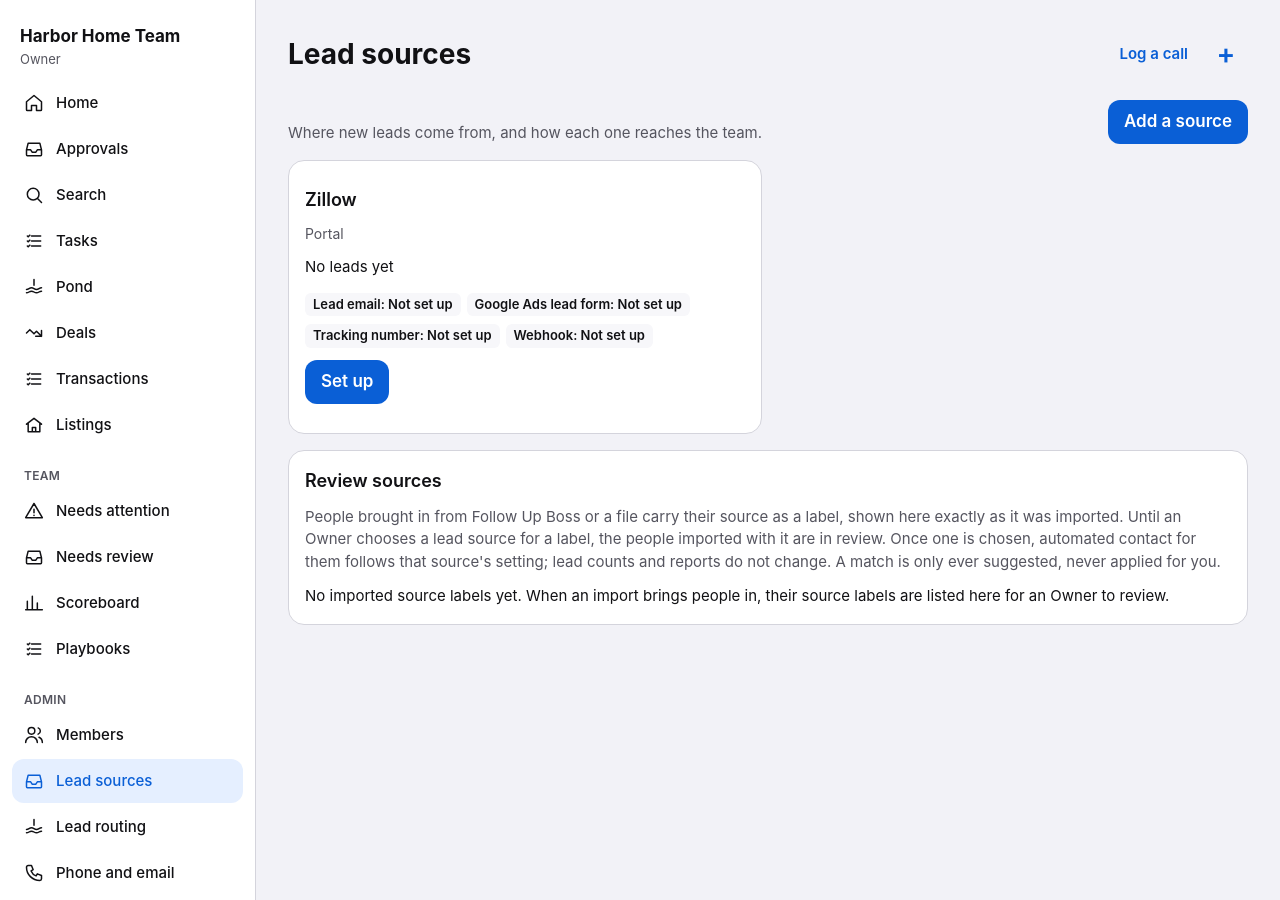
Test: An agent's forwarded email › a failed step is a sentence; trying again goes on from there and never makes the source twice
Click the button "Add a source": (1178, 122) [1108,100,1248,144]
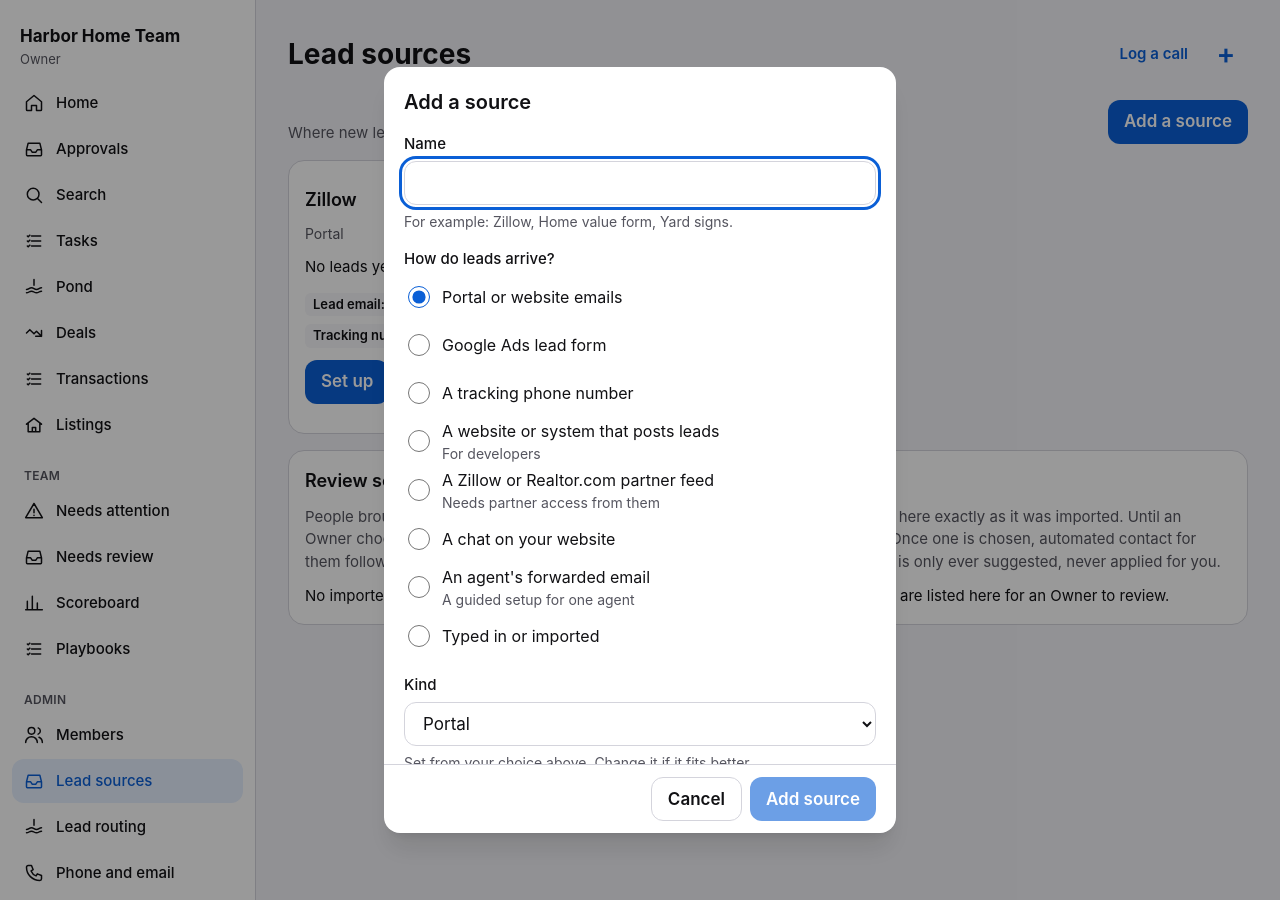
Click the radio button labelled "An agent's forwarded email A guided setup for one agent": (419, 587) [408,576,430,598]
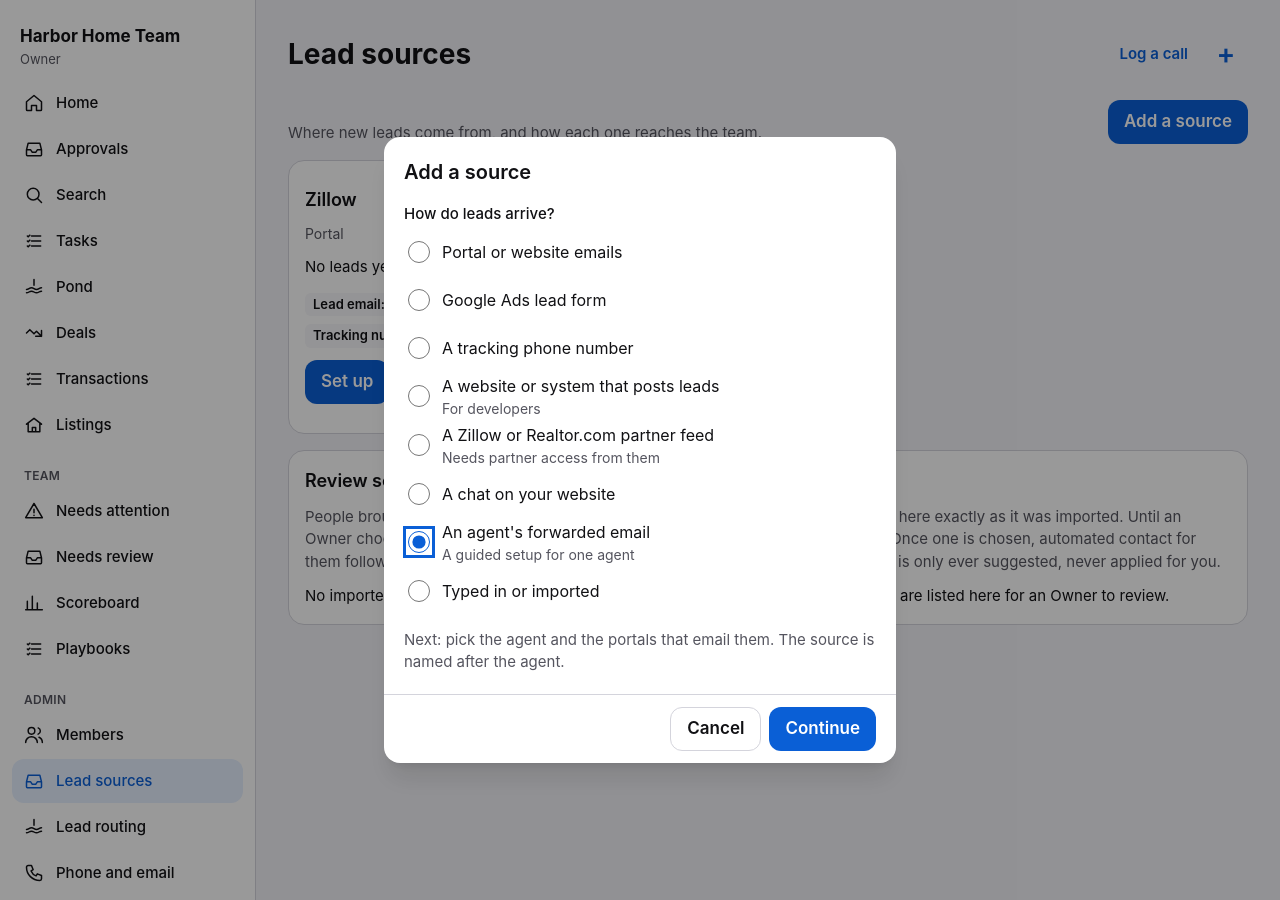
Click the button "Continue": (823, 729) [769,707,876,751]
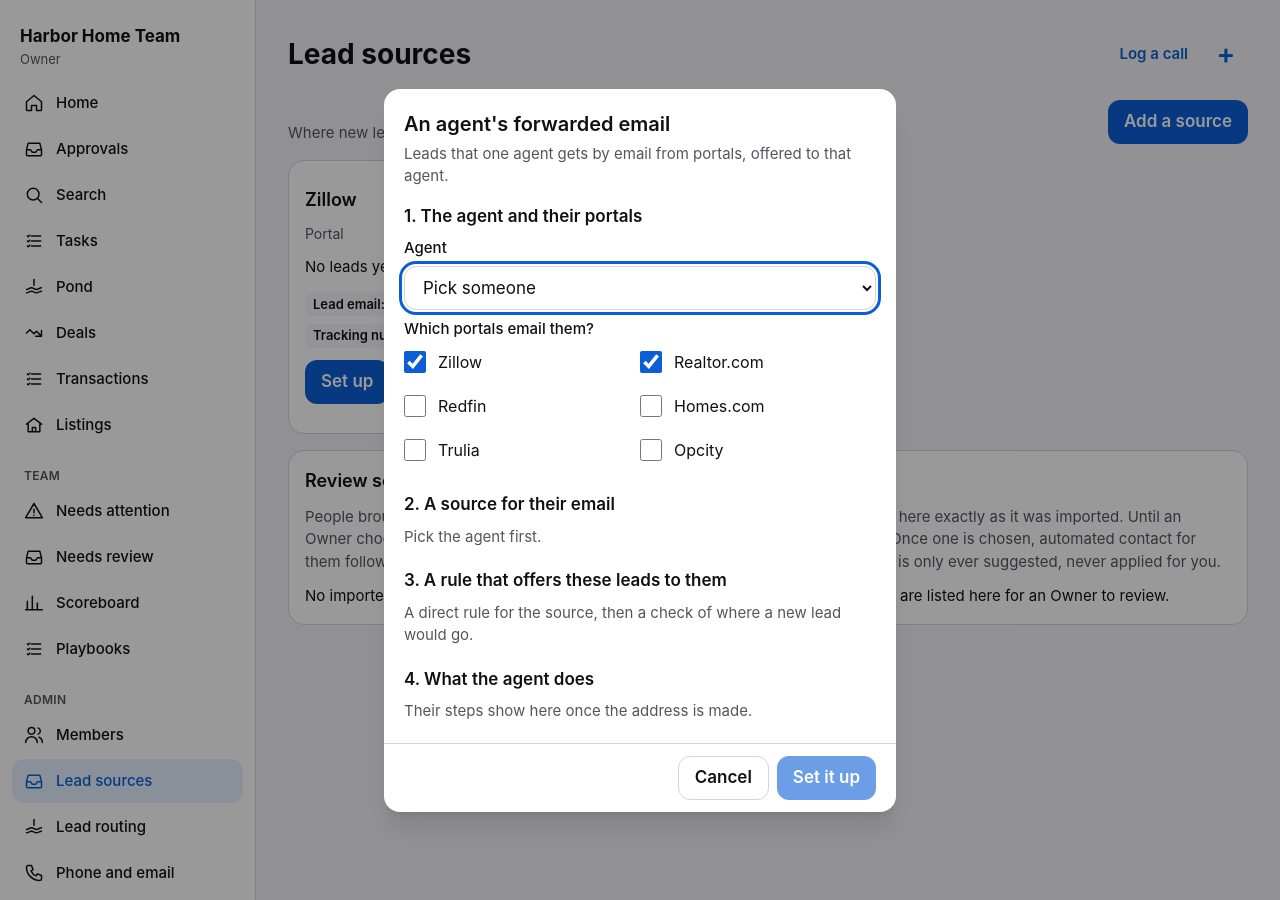
Select "Ava Agent" in the dropdown labelled "Agent": (640, 288) [404,266,876,310]
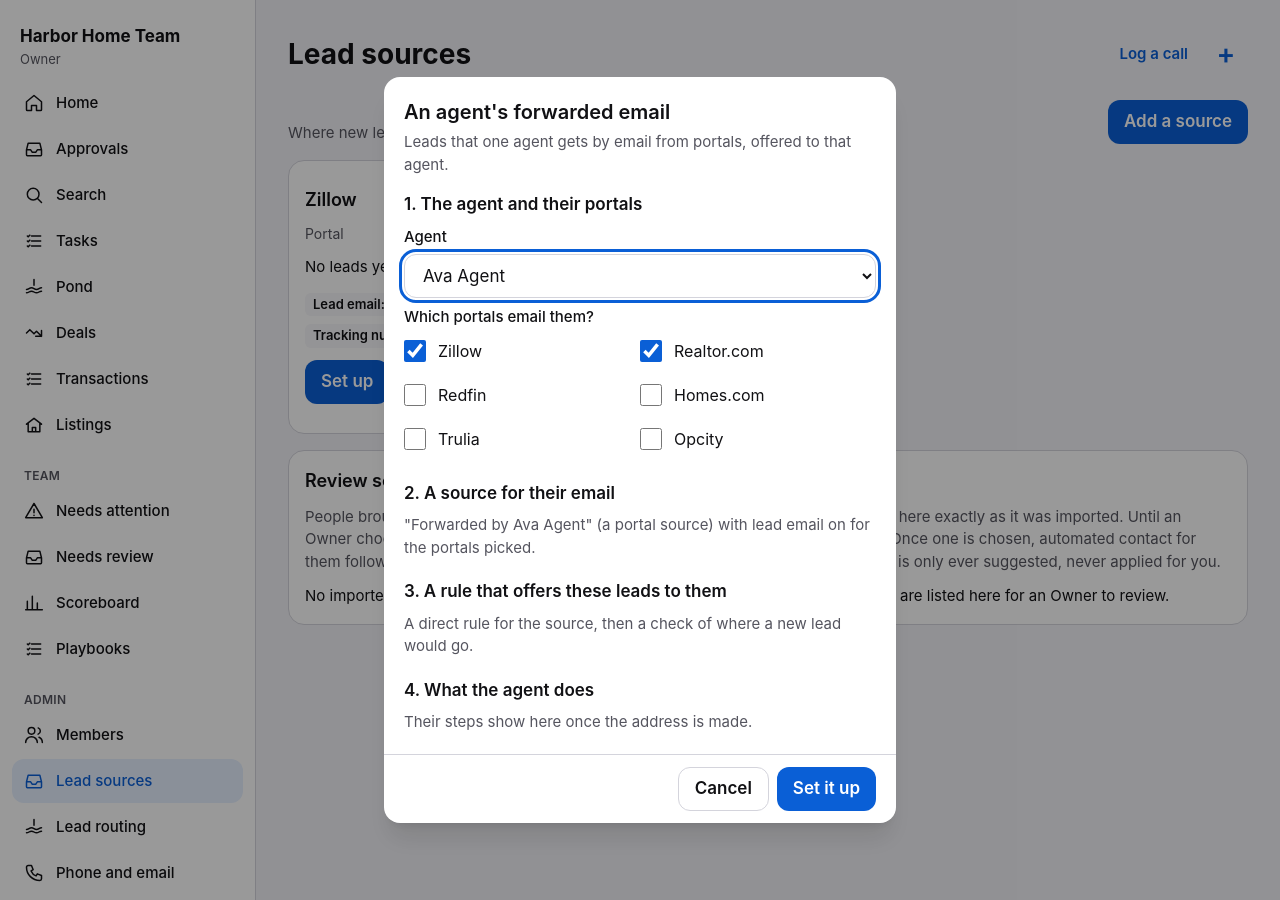
Click the button "Set it up": (826, 789) [777,767,876,811]
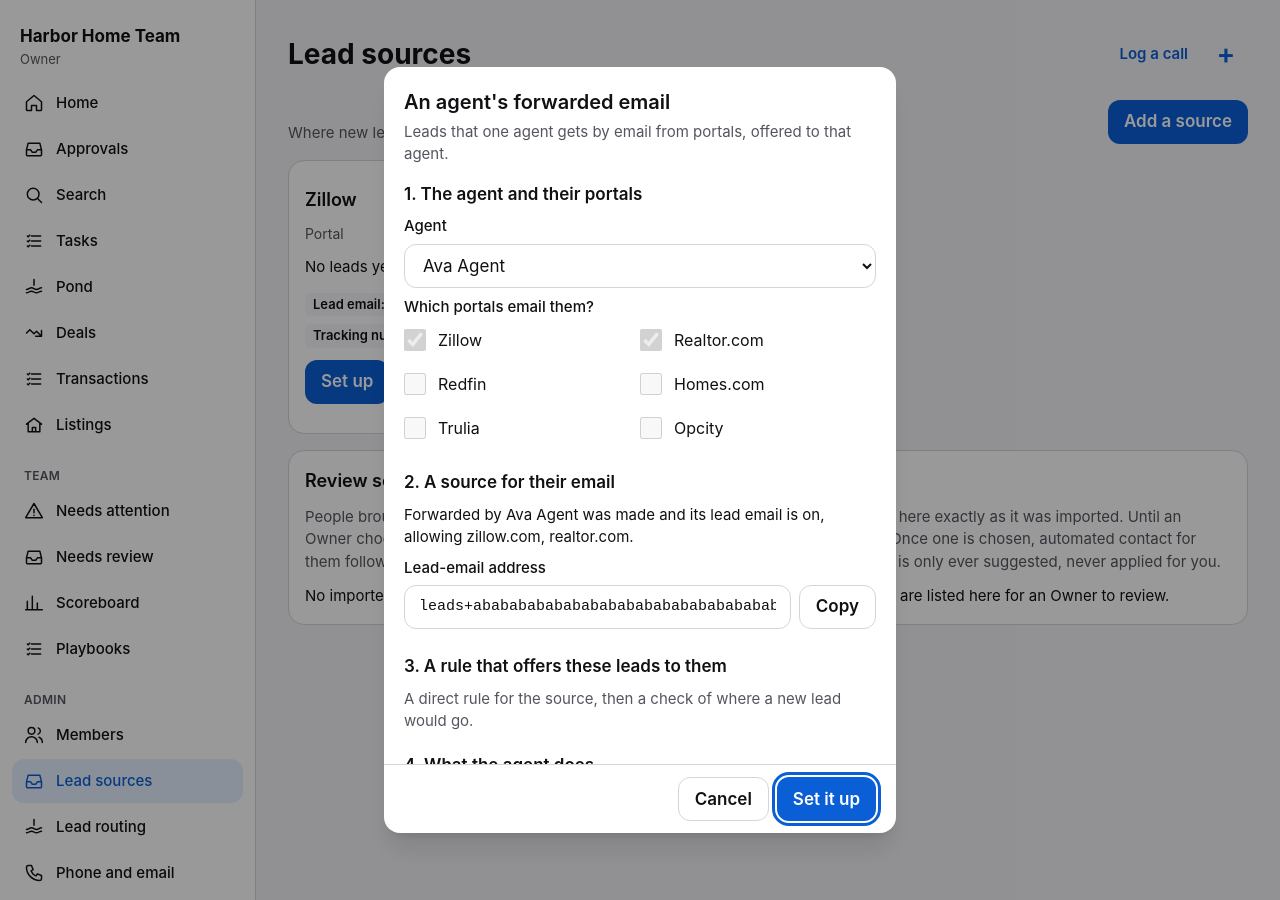
Click the button "Set it up": (826, 799) [777,777,876,821]
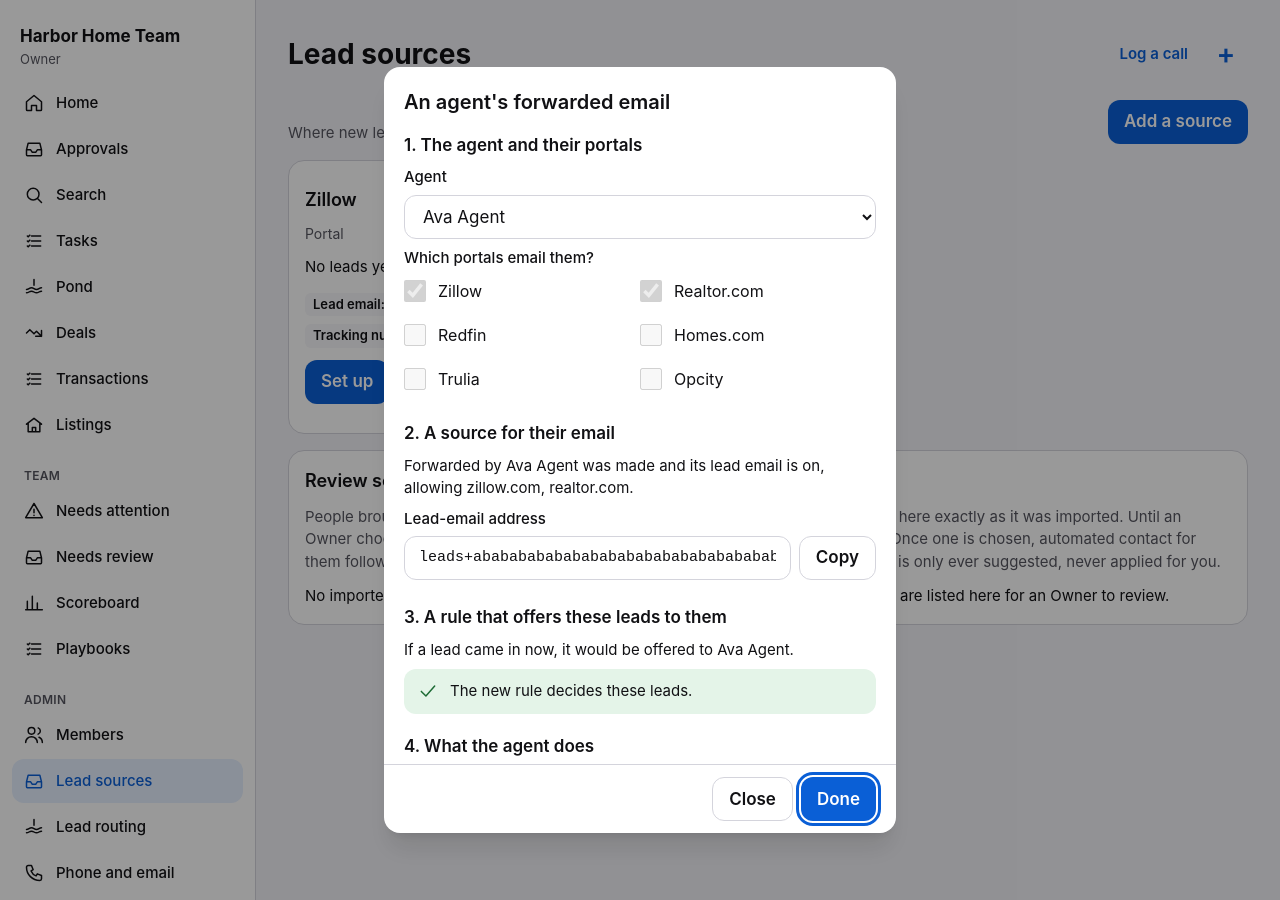
Now the text "The new rule decides these leads." is shown, box [450,681,692,700]
